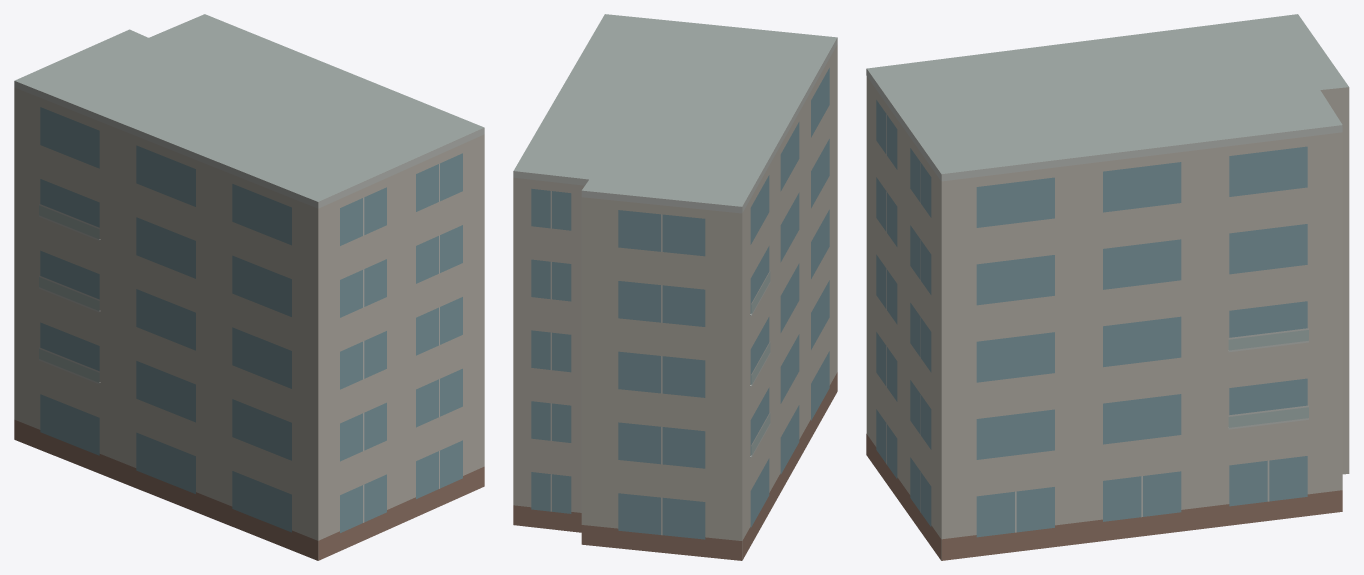
Rendered from survey-upis-32875161.glb.
The picture shows the model from 3 angles, left to right: view 1: azimuth 30°, elevation 25°; view 2: azimuth 150°, elevation 25°; view 3: azimuth 270°, elevation 25°; orthographic projection. The views are drawn at different scales.
Visible parts, largest first — view 1: survey-upis-32875161.tmp; view 2: survey-upis-32875161.tmp; view 3: survey-upis-32875161.tmp.
Boxes of the visible parts, <box> form: survey-upis-32875161.tmp: <box>14,14,484,560</box>; survey-upis-32875161.tmp: <box>513,14,837,560</box>; survey-upis-32875161.tmp: <box>866,14,1349,560</box>.
Bounding box in the file's own units: 11.56 × 13 × 14.72.
